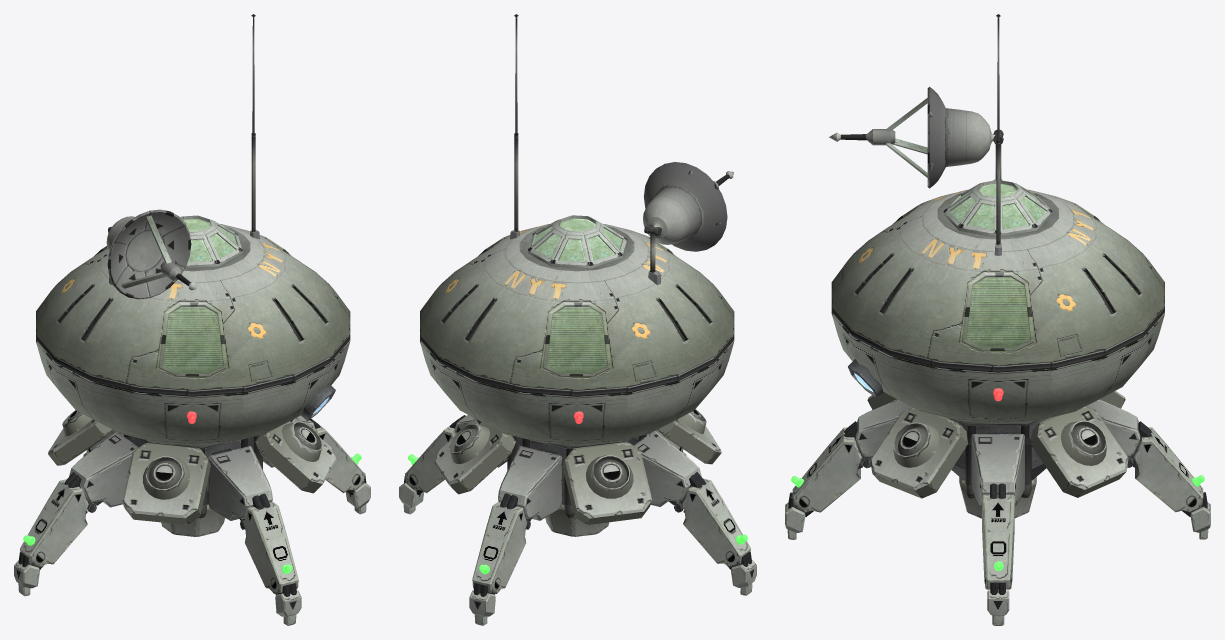
The model's file is ss_drake.glb.
3 views of the same model, side by side, from view 1: azimuth 30°, elevation 25°; view 2: azimuth 150°, elevation 25°; view 3: azimuth 270°, elevation 25° (orthographic). The views are drawn at different scales.
Visible parts, largest first — view 1: Object_2, Object_4, Object_5, Object_3; view 2: Object_2, Object_4, Object_5, Object_3; view 3: Object_2, Object_4, Object_5, Object_3.
Part boxes in pixels (x1,y1,x2,y2): Object_2: [18, 218, 370, 625]; Object_4: [14, 209, 369, 625]; Object_5: [14, 212, 370, 624]; Object_3: [18, 14, 366, 596]; Object_2: [399, 215, 752, 625]; Object_4: [400, 171, 756, 625]; Object_5: [399, 162, 756, 624]; Object_3: [404, 14, 751, 596]; Object_2: [785, 126, 1210, 624]; Object_4: [785, 87, 1210, 625]; Object_5: [786, 87, 1209, 624]; Object_3: [788, 14, 1207, 594].
Size of the model in its own units: 189 by 273 by 189.
Materials: 1 (1 with a texture image).
